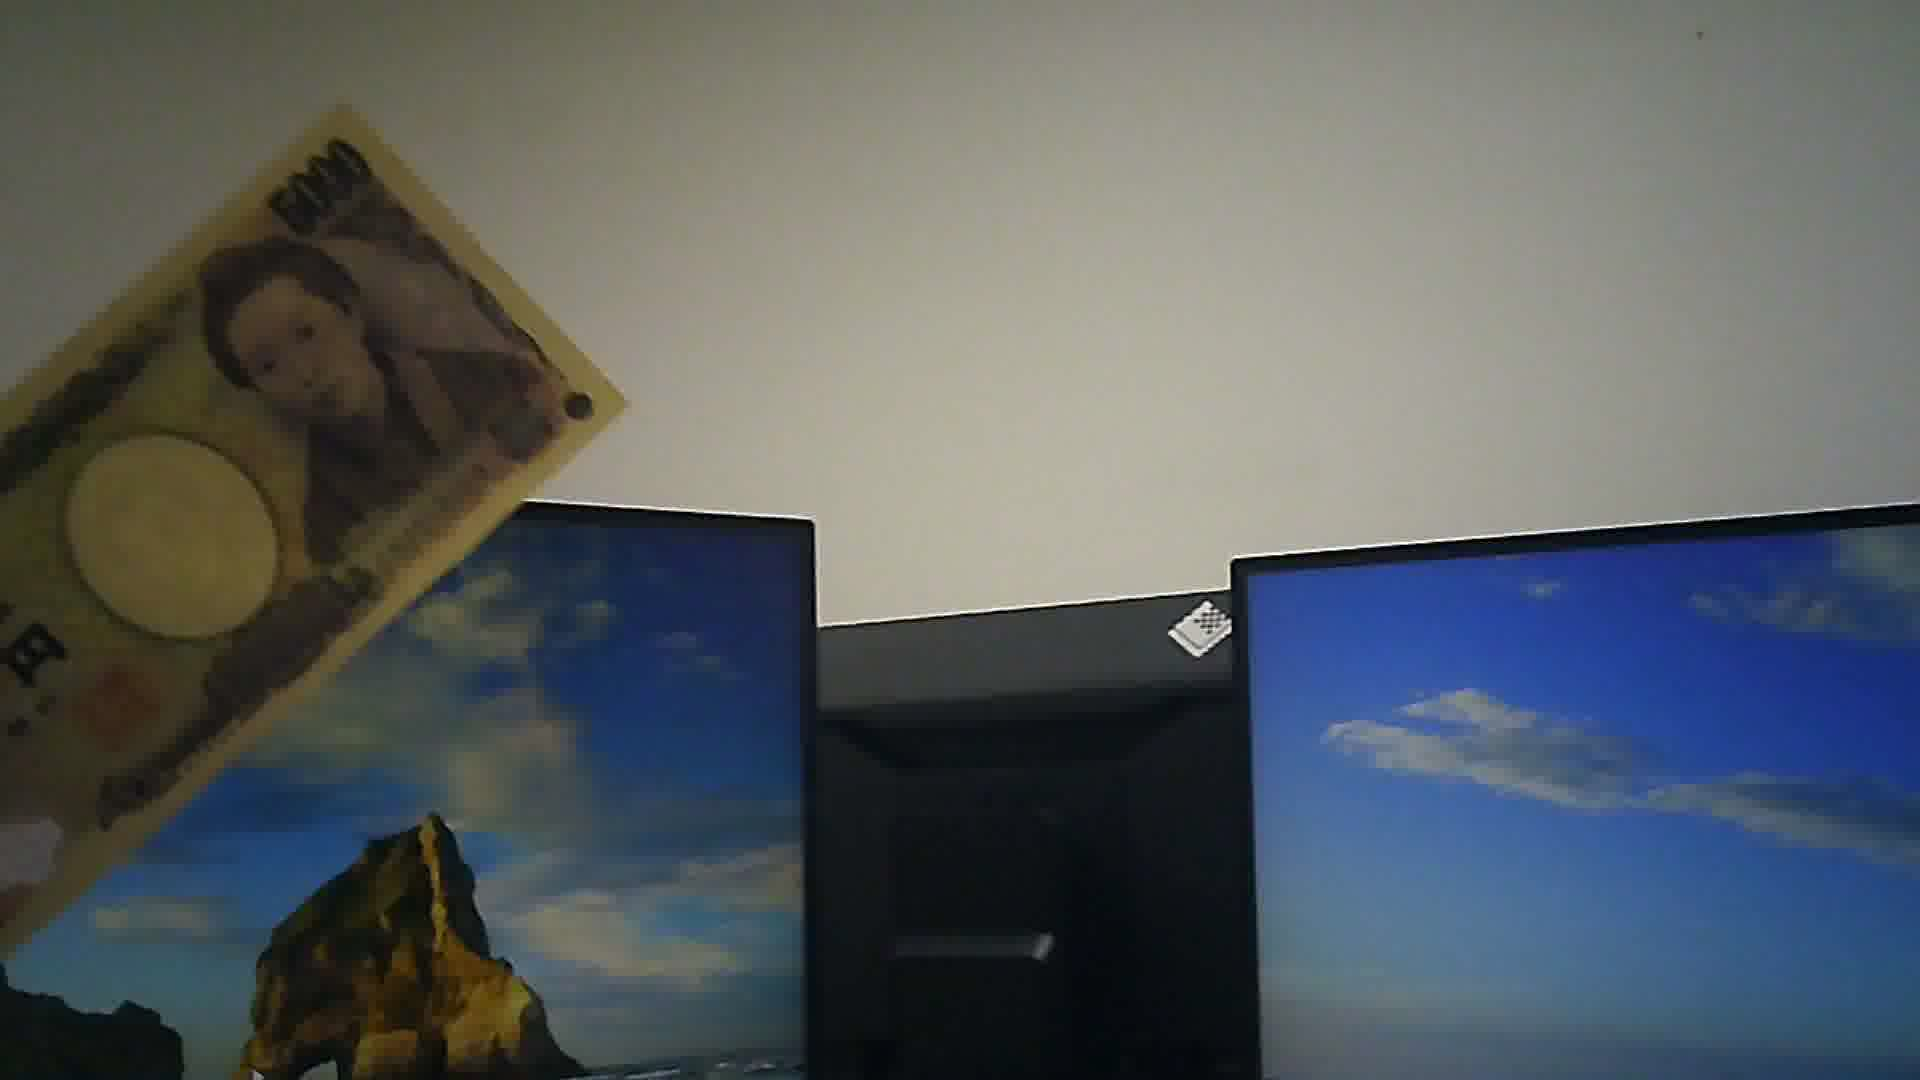5,000 Yen: (5, 82, 659, 1033)
